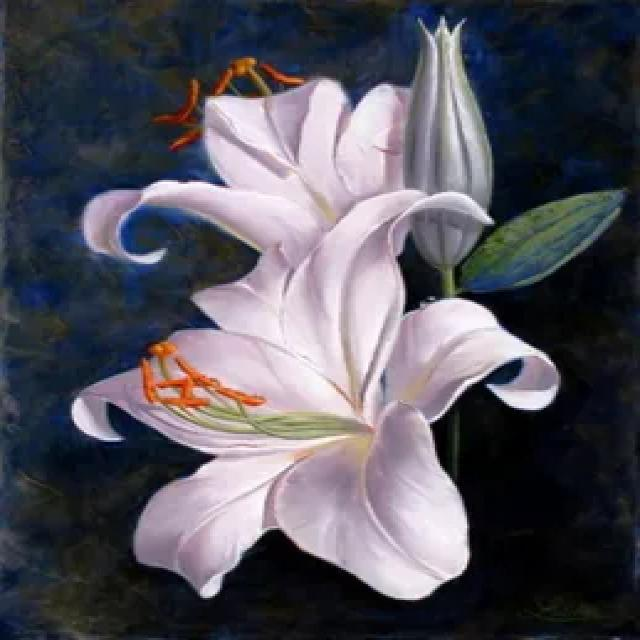lily: (47, 189, 557, 606)
